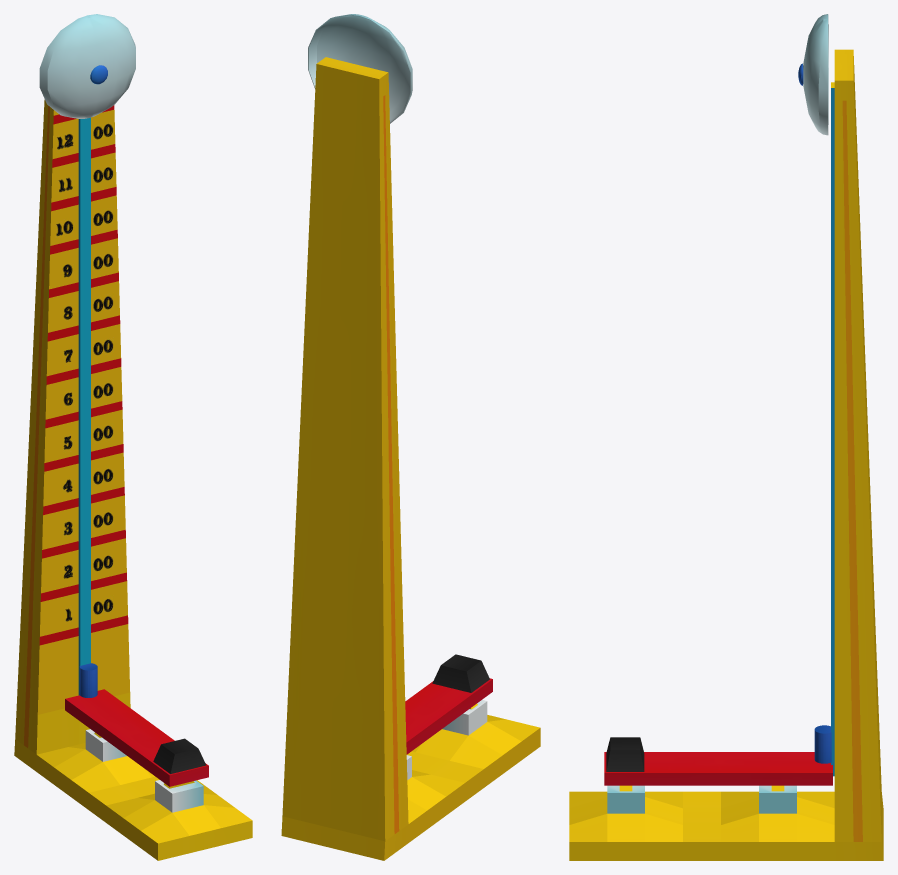
The model's file is strength_meter.fbx.
3 views of the same model, side by side, from view 1: azimuth 30°, elevation 25°; view 2: azimuth 150°, elevation 25°; view 3: azimuth 270°, elevation 25° (orthographic). The views are drawn at different scales.
Parts seen in each view (by area): view 1: strength_meter, bell, strike pad, slider; view 2: strength_meter, bell, strike pad; view 3: strength_meter, strike pad, bell, slider.
Boxes of the visible parts, x1,y1,x2,y2 form: strength_meter: (14,99,252,860); bell: (39,14,135,118); strike pad: (65,689,208,786); slider: (79,663,97,697); strength_meter: (281,57,540,860); bell: (308,14,412,123); strike pad: (405,654,492,754); strength_meter: (569,49,883,860); strike pad: (604,737,832,785); bell: (798,14,828,135); slider: (814,725,831,763).
Size of the model in its own units: 1.2 by 9 by 3.14.
